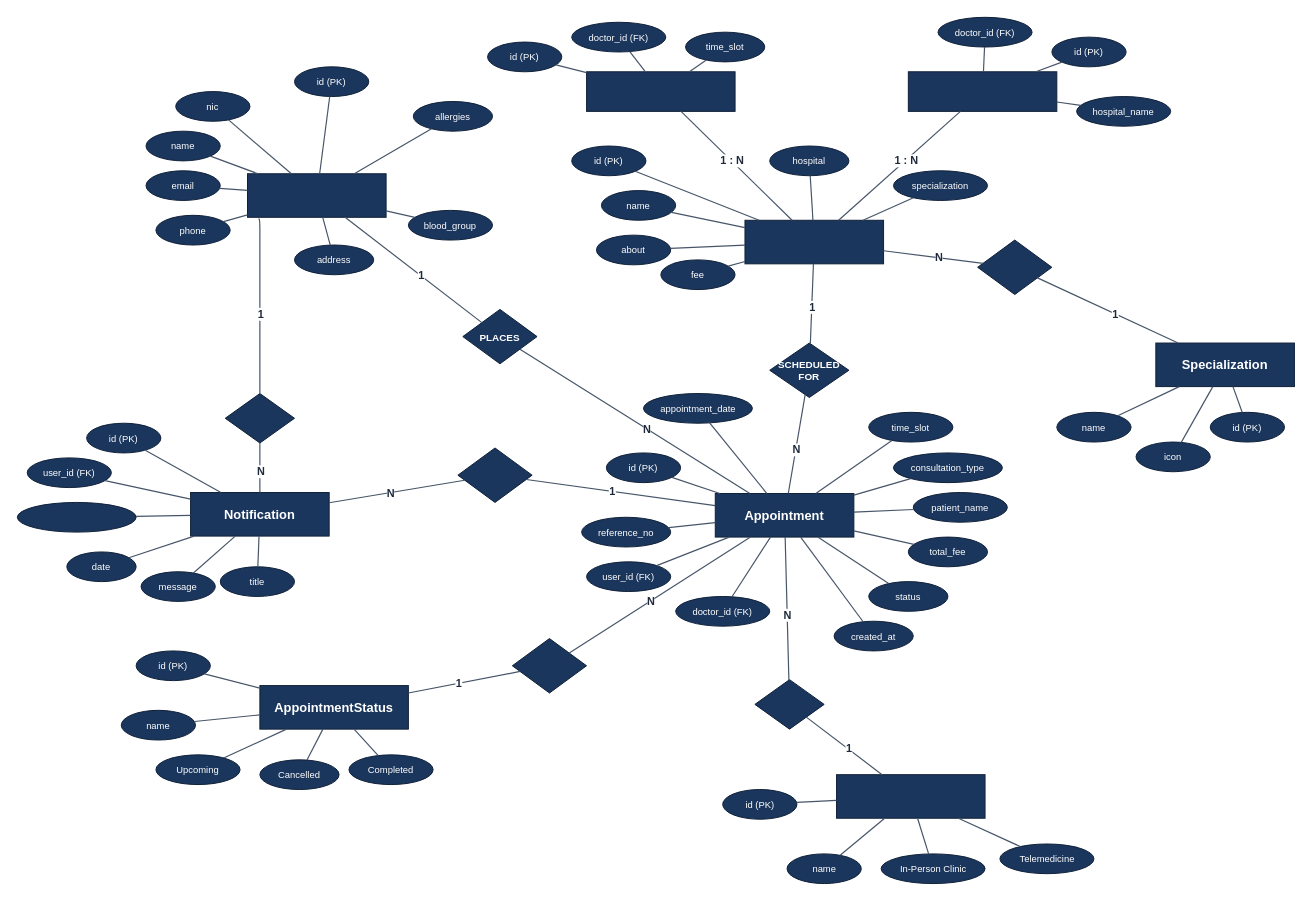
The diagram is 1312 pixels wide and 901 high, and some of its shapes have lost their labels. Here are the shapes that lost their labels. From the top down, the box of each, then its label:
(586, 71, 735, 111): Doctor_Availability
(907, 71, 1057, 111): Hospital_Branch
(247, 173, 386, 217): User
(744, 219, 884, 264): Doctor
(977, 239, 1052, 295): BELONGS TO
(224, 393, 295, 443): RECEIVES
(457, 447, 532, 502): TRIGGERS
(16, 501, 136, 532): appointment_id (FK)
(511, 638, 587, 693): HAS STATUS
(754, 679, 824, 729): HAS MODE
(836, 774, 985, 818): ConsultationType
